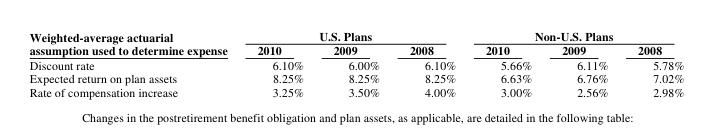table: (28, 29, 683, 98)
table column: (28, 29, 241, 98), (393, 29, 470, 98), (241, 29, 317, 98), (317, 29, 393, 98), (470, 29, 546, 98), (546, 29, 622, 98), (622, 29, 683, 98)
table column header: (28, 29, 683, 57)
table row: (28, 29, 683, 43), (28, 43, 683, 57), (28, 57, 683, 71), (28, 84, 683, 98), (28, 71, 683, 84)
table spanning cell: (28, 29, 241, 57), (241, 29, 470, 43), (470, 29, 683, 43)
